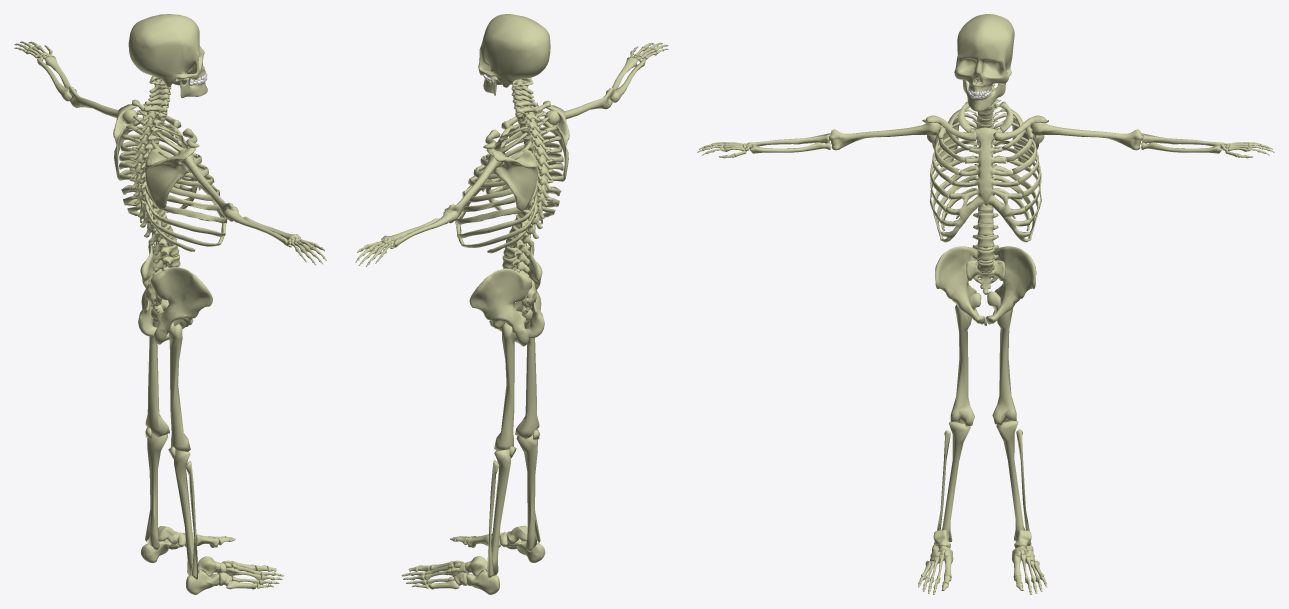
The model's file is skellet.FBX.
3 views of the same model, side by side, from view 1: azimuth 30°, elevation 25°; view 2: azimuth 150°, elevation 25°; view 3: azimuth 270°, elevation 25° (orthographic). The views are drawn at different scales.
Parts seen in each view (by area): view 1: Skull, pelvis, Group05, Group03, scapula, sternum, humorus01, humorus, meta01, rib8, rib9, rib10 (+7 smaller); view 2: Skull, pelvis, Group03, Group05, scapula, sternum, humorus, humorus01, meta, rib8, rib9, rib10 (+4 smaller); view 3: pelvis, Skull, sternum, Group05, Group03, humorus, humorus01, scapula, clavical.
Part boxes in pixels (x1,y1,x2,y2): Skull: [128, 14, 205, 87]; pelvis: [138, 244, 212, 344]; Group05: [168, 322, 199, 579]; Group03: [145, 304, 169, 550]; scapula: [113, 104, 196, 210]; sternum: [163, 122, 227, 242]; humorus01: [178, 149, 237, 221]; humorus: [69, 86, 137, 123]; meta01: [226, 561, 261, 589]; rib8: [119, 169, 227, 223]; rib9: [121, 185, 225, 236]; rib10: [123, 195, 221, 246]; Skull: [478, 14, 550, 87]; pelvis: [469, 246, 544, 346]; Group03: [486, 310, 521, 579]; Group05: [515, 307, 540, 552]; scapula: [485, 105, 569, 211]; sternum: [455, 124, 519, 244]; humorus: [444, 151, 504, 223]; humorus01: [544, 87, 613, 125]; meta: [424, 561, 459, 589]; rib8: [455, 170, 563, 224]; rib9: [457, 186, 561, 238]; rib10: [461, 197, 559, 247]; pelvis: [935, 246, 1036, 324]; Skull: [954, 14, 1014, 92]; sternum: [941, 127, 1030, 242]; Group05: [937, 293, 981, 542]; Group03: [987, 291, 1029, 541]; humorus: [1030, 122, 1143, 150]; humorus01: [828, 122, 941, 150]; scapula: [922, 115, 1048, 167]; clavical: [926, 115, 1045, 141].
Size of the model in its own units: 411 by 1744 by 1702.
